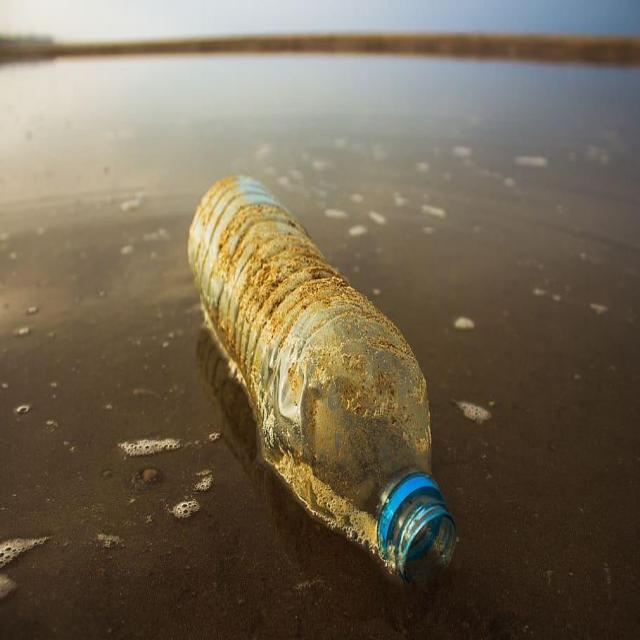bottle: (176, 165, 474, 600)
